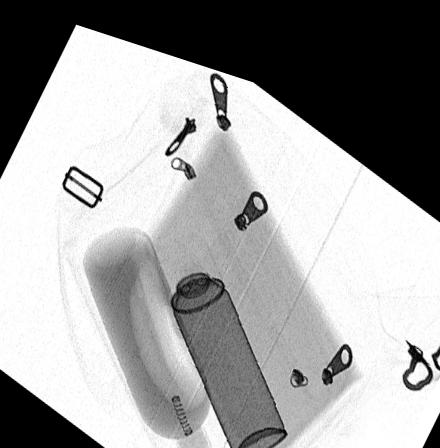Sprayer: (149, 223, 288, 446)
